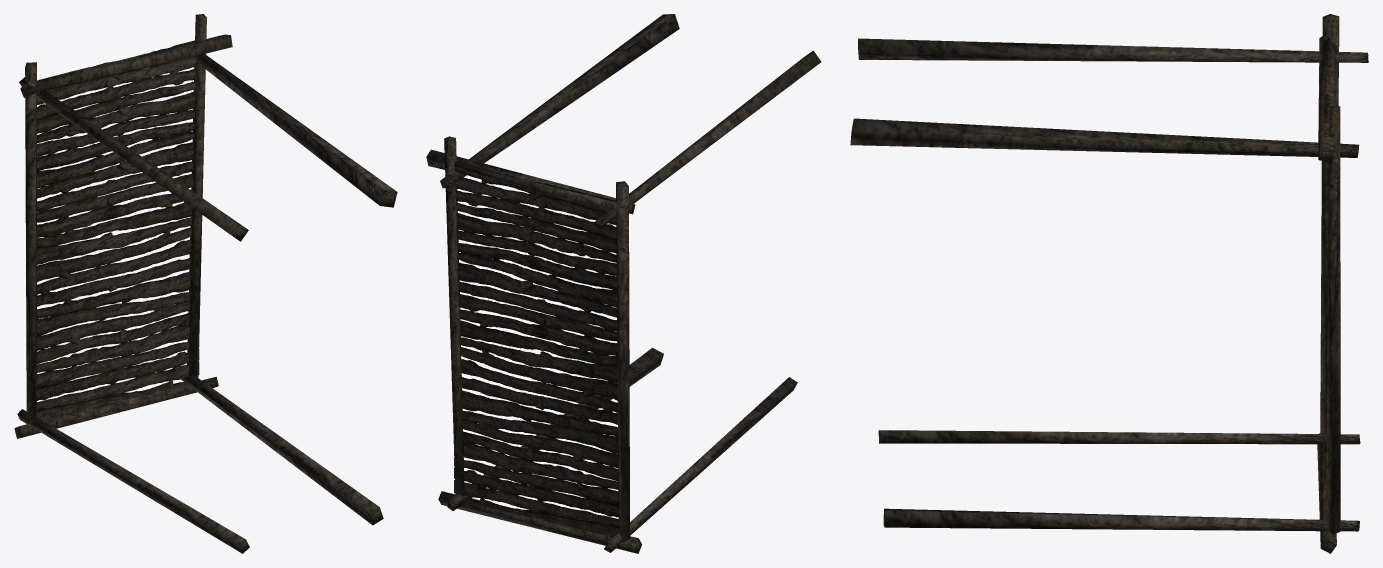
File: MEP_Walk_02_LOD_01.fbx
The picture shows the model from 3 angles, left to right: view 1: azimuth 30°, elevation 25°; view 2: azimuth 150°, elevation 25°; view 3: azimuth 270°, elevation 25°; orthographic projection. The views are drawn at different scales.
Visible parts, largest first — view 1: MEP_Walk_02_LOD_01; view 2: MEP_Walk_02_LOD_01; view 3: MEP_Walk_02_LOD_01.
Boxes of the visible parts, left/top/right/bottom form: MEP_Walk_02_LOD_01: left=14, top=14, right=397, bottom=553; MEP_Walk_02_LOD_01: left=426, top=14, right=821, bottom=553; MEP_Walk_02_LOD_01: left=850, top=14, right=1368, bottom=553.
Bounding box in the file's own units: 3.28 × 5.57 × 5.92.
